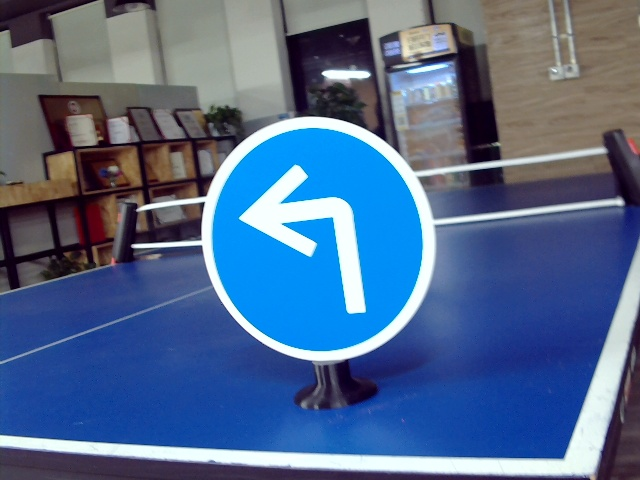turn_left: (239, 166, 379, 316)
